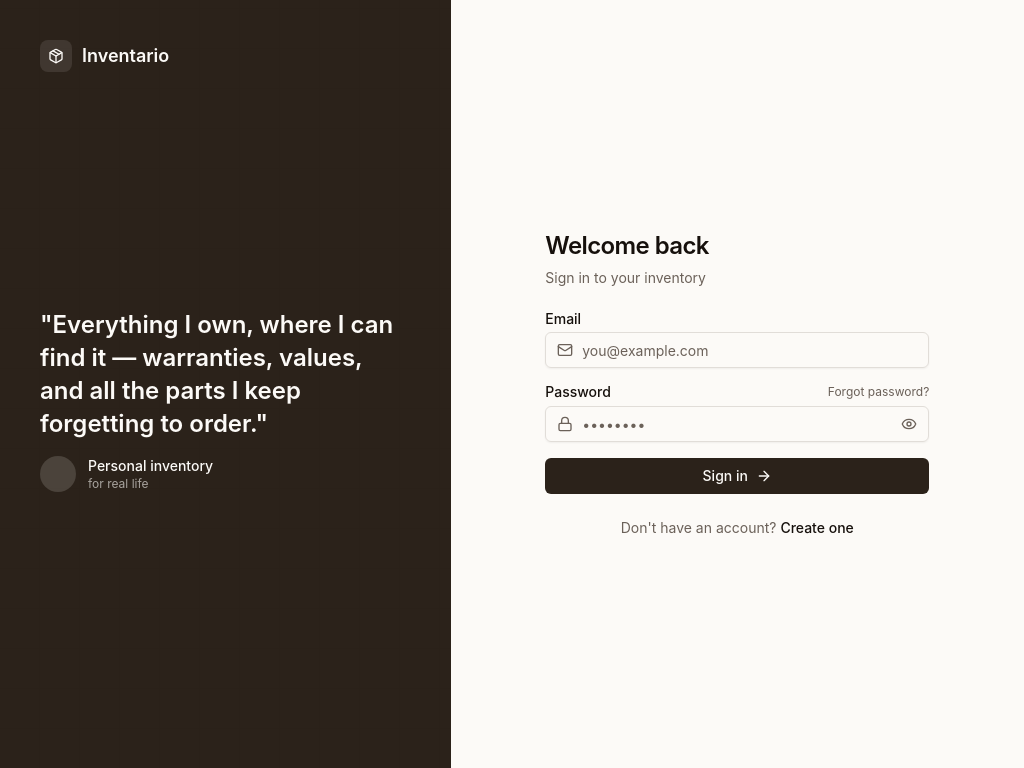
<LoginPage /> › surfaces a 422 validation error from the JSON:API envelope
Type "alex@example.com" into the field with test id "email" at (737, 350), box x1=545 y1=332 x2=929 y2=368
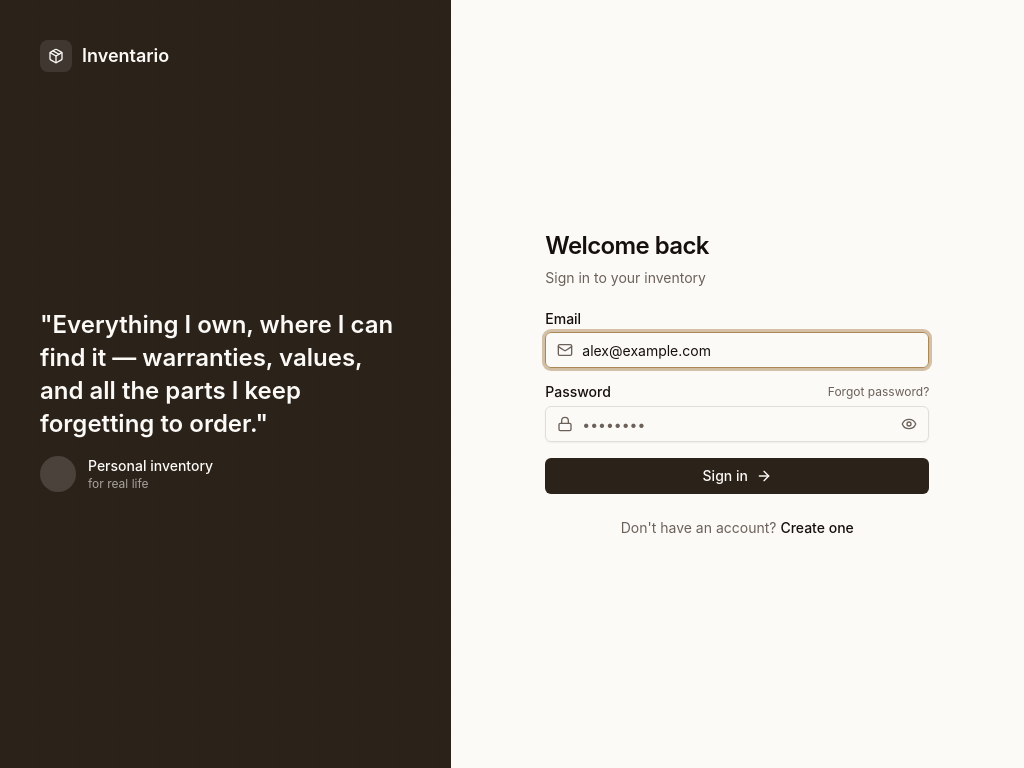
Type "secret-pw" into the password field with test id "password" at (737, 424), box x1=545 y1=406 x2=929 y2=442
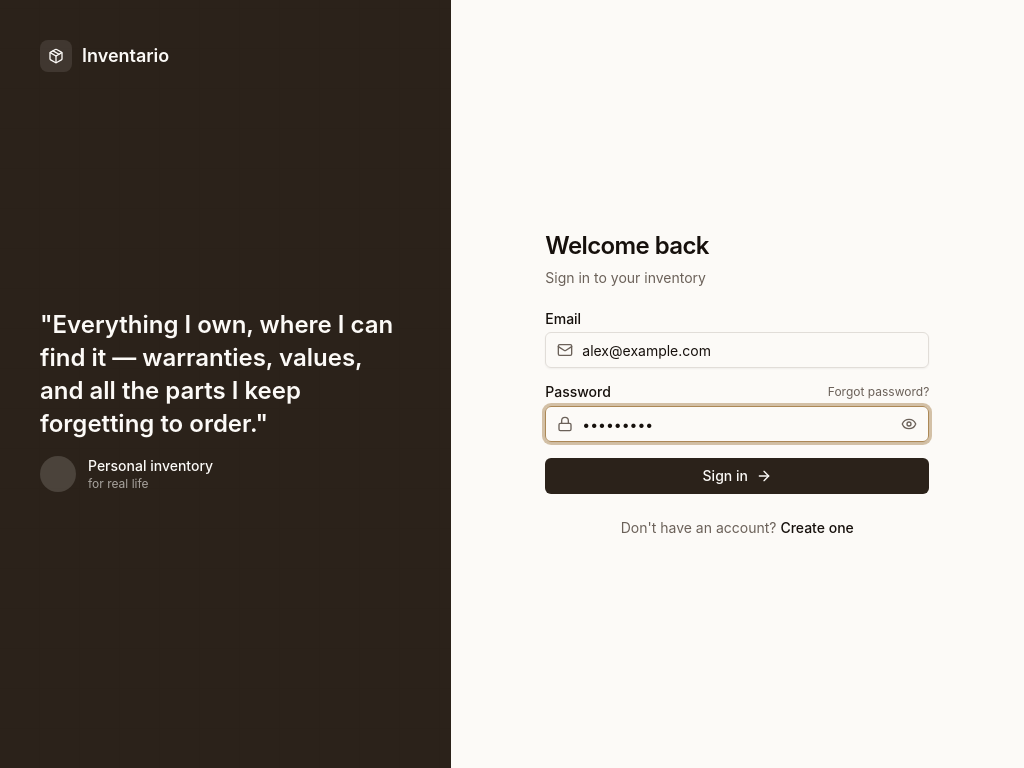
Click the button with test id "login-button" at (737, 476), box x1=545 y1=458 x2=929 y2=494
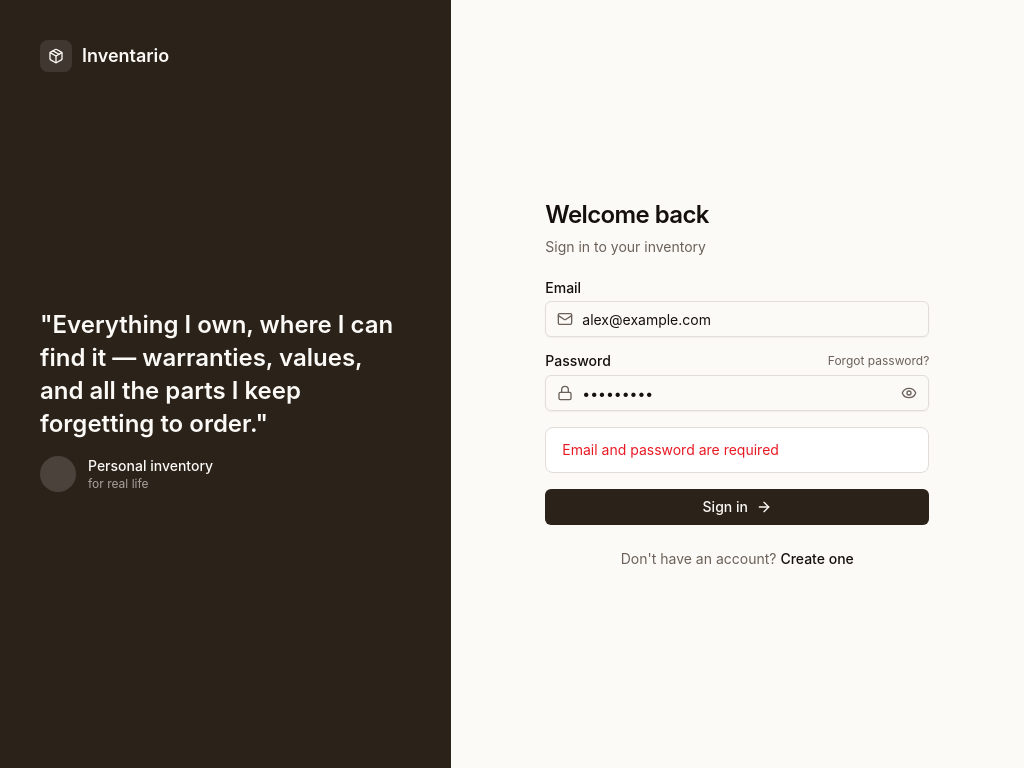
Expected: the element with test id "login-page" is shown, x1=545 y1=199 x2=929 y2=569
Expected: the message with test id "server-error" reads "Email and password are required", x1=562 y1=441 x2=779 y2=458
